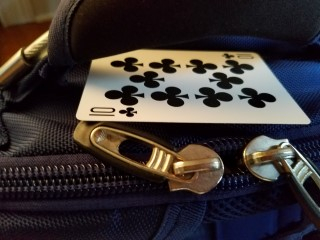TenOfClubs: (75, 47, 311, 124)
